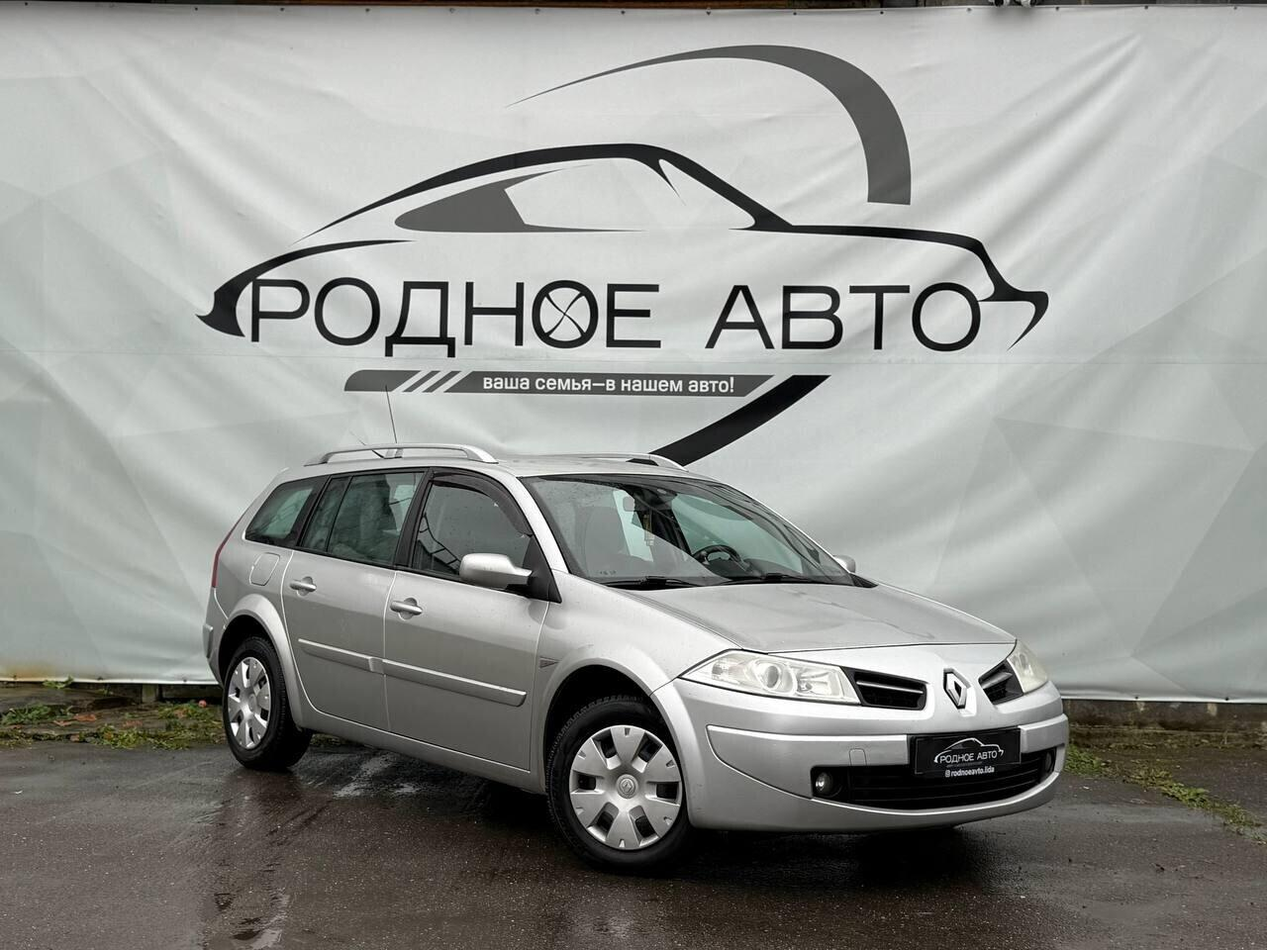Megane_2005-2009: (202, 449, 1072, 878)
